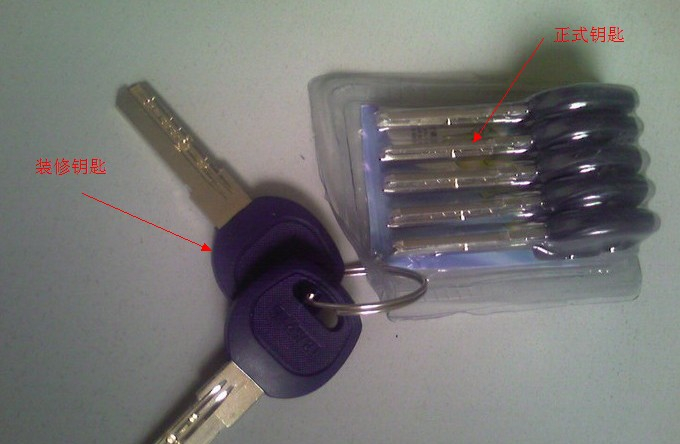key: (113, 74, 349, 311), (139, 274, 365, 444), (373, 80, 642, 128), (394, 216, 667, 262)
